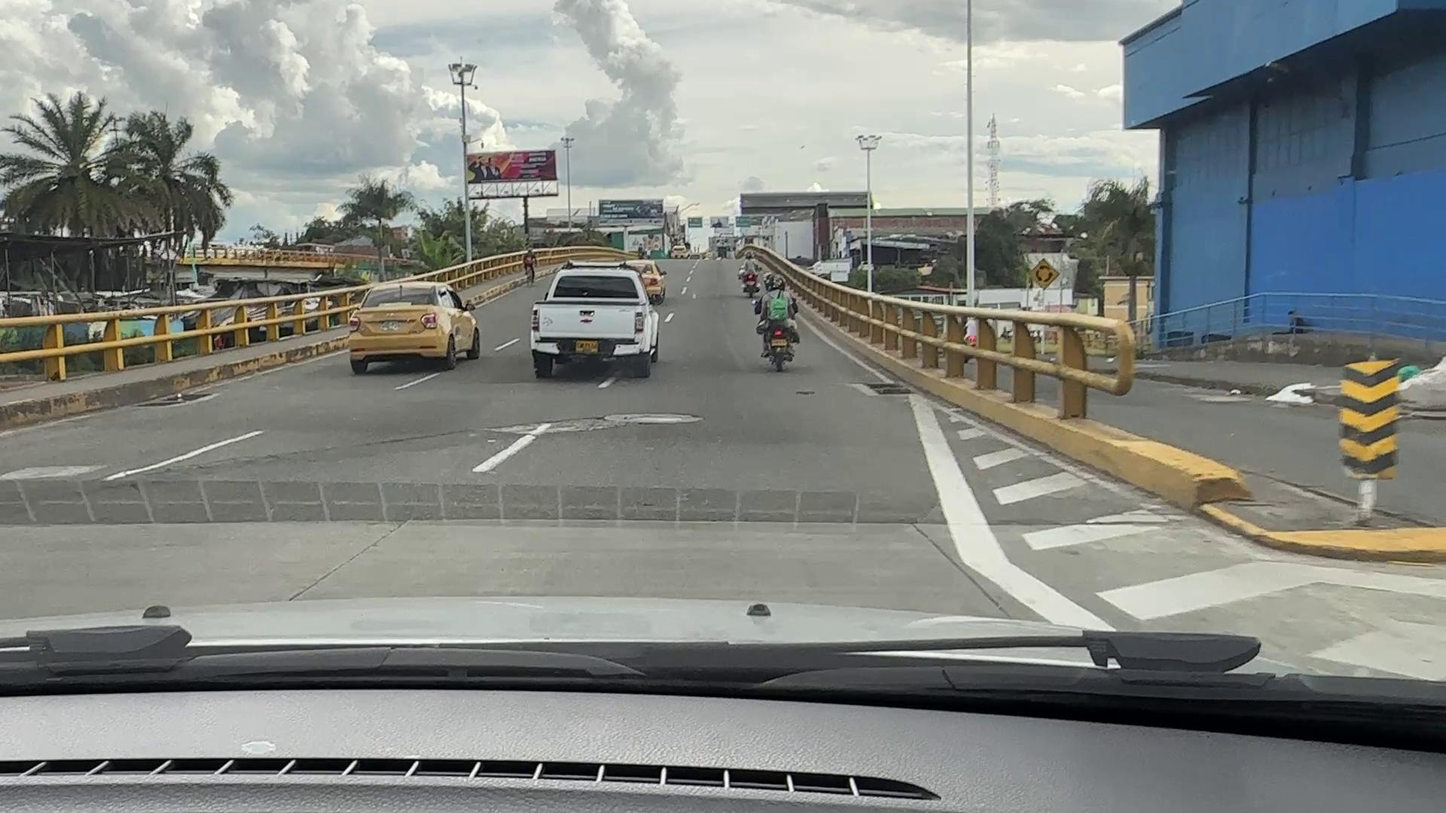bache: (479, 417, 630, 436), (797, 392, 815, 395)
registro: (2, 465, 89, 479), (629, 416, 682, 421)
rejilla: (134, 393, 214, 406), (864, 383, 915, 394)
